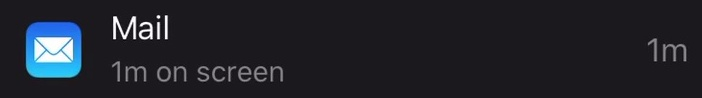name: (102, 6, 184, 47)
time: (104, 53, 155, 88)
